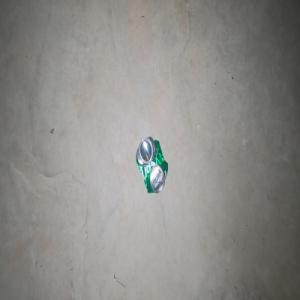SodaCan: (135, 135, 168, 193)
